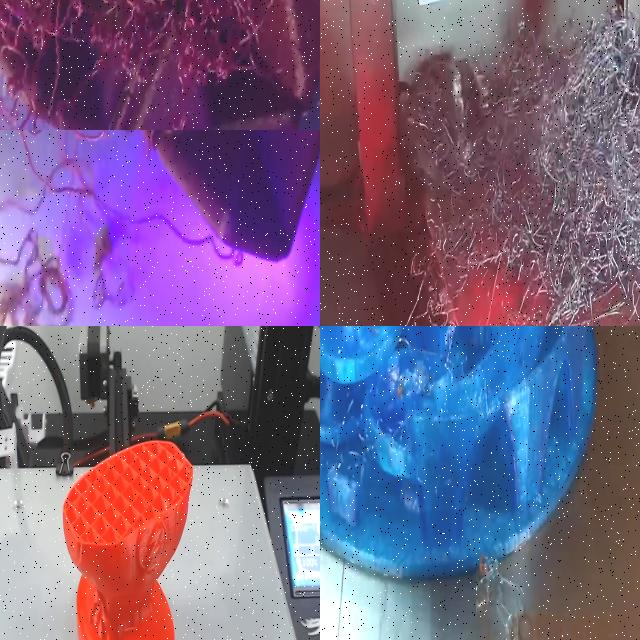spaghetti: (397, 12, 640, 326), (320, 326, 526, 534), (0, 0, 320, 130), (0, 210, 130, 326), (476, 558, 520, 640)
